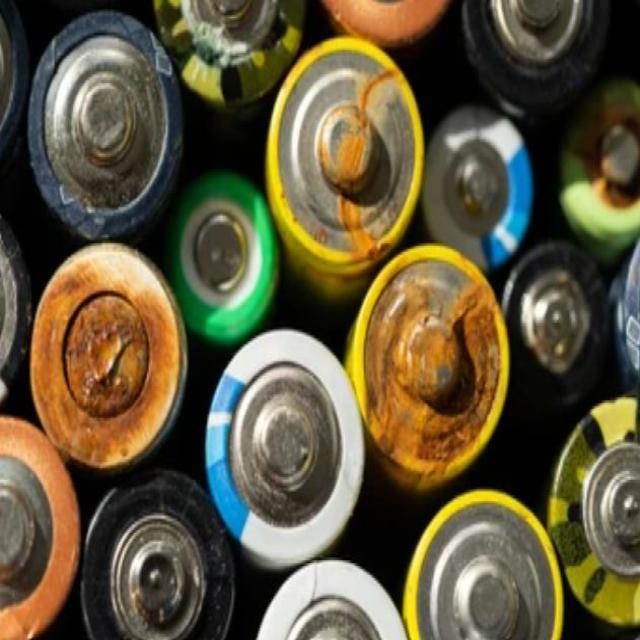electronic: (252, 28, 453, 330)
